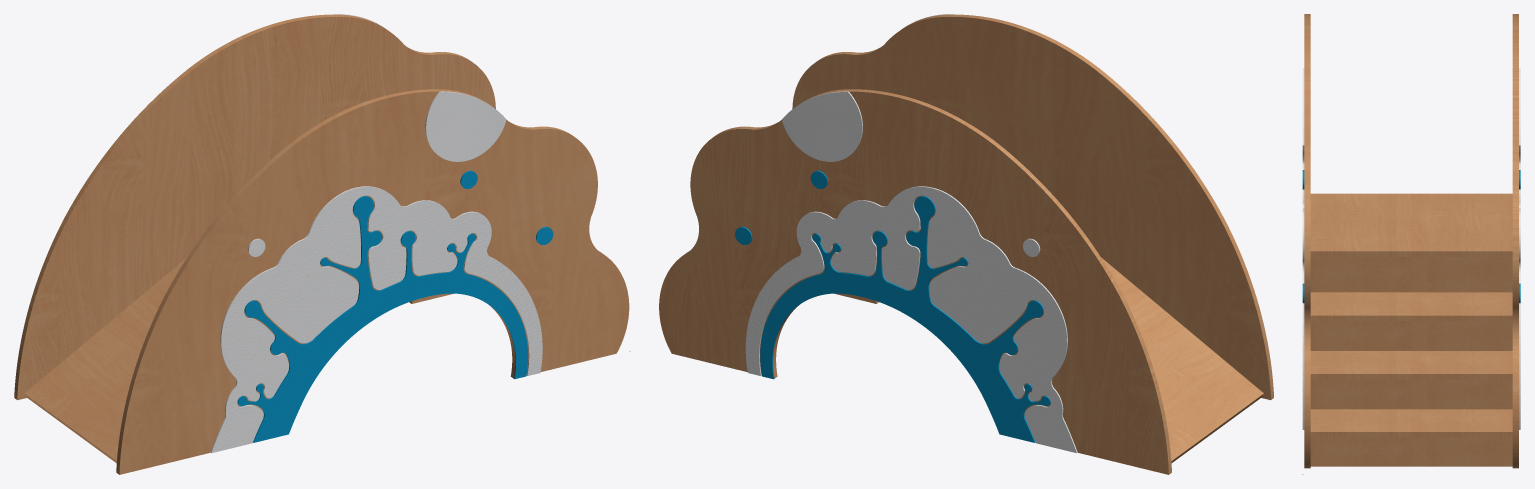
Rendered from gorka_zabava.glb.
3 renders of one model, left to right at view 1: azimuth 30°, elevation 25°; view 2: azimuth 150°, elevation 25°; view 3: azimuth 270°, elevation 25°, orthographic. The views are drawn at different scales.
Parts seen in each view (by area): view 1: Shape_IndexedFaceSet.027, Shape_IndexedFaceSet.020, Shape_IndexedFaceSet.022_FAN, Shape_IndexedFaceSet.023_FAN, Shape_IndexedFaceSet.013, Shape_IndexedFaceSet.026_FAN; view 2: Shape_IndexedFaceSet.020, Shape_IndexedFaceSet.027, Shape_IndexedFaceSet.019_FAN, Shape_IndexedFaceSet.014_FAN, Shape_IndexedFaceSet.013, Shape_IndexedFaceSet.016_FAN; view 3: Shape_IndexedFaceSet.012, Shape_IndexedFaceSet.011, Shape_IndexedFaceSet.007, Shape_IndexedFaceSet.009, Shape_IndexedFaceSet.005, Shape_IndexedFaceSet.010, Shape_IndexedFaceSet.006, Shape_IndexedFaceSet.008, Shape_IndexedFaceSet.027, Shape_IndexedFaceSet.020, Shape_IndexedFaceSet.022_FAN, Shape_IndexedFaceSet.019_FAN (+1 smaller).
Boxes of the visible parts, box(x1,y1,x2,y2) form: Shape_IndexedFaceSet.027: box(116, 89, 629, 474); Shape_IndexedFaceSet.020: box(14, 14, 495, 400); Shape_IndexedFaceSet.022_FAN: box(210, 186, 542, 453); Shape_IndexedFaceSet.023_FAN: box(237, 196, 527, 442); Shape_IndexedFaceSet.013: box(24, 258, 186, 462); Shape_IndexedFaceSet.026_FAN: box(425, 91, 506, 161); Shape_IndexedFaceSet.020: box(659, 89, 1171, 474); Shape_IndexedFaceSet.027: box(792, 14, 1273, 400); Shape_IndexedFaceSet.019_FAN: box(745, 186, 1077, 453); Shape_IndexedFaceSet.014_FAN: box(760, 196, 1050, 442); Shape_IndexedFaceSet.013: box(1101, 257, 1263, 462); Shape_IndexedFaceSet.016_FAN: box(782, 91, 862, 161); Shape_IndexedFaceSet.012: box(1310, 193, 1512, 256); Shape_IndexedFaceSet.011: box(1310, 257, 1512, 292); Shape_IndexedFaceSet.007: box(1310, 379, 1512, 409); Shape_IndexedFaceSet.009: box(1310, 321, 1512, 350); Shape_IndexedFaceSet.005: box(1310, 437, 1512, 466); Shape_IndexedFaceSet.010: box(1310, 292, 1512, 321); Shape_IndexedFaceSet.006: box(1310, 409, 1512, 437); Shape_IndexedFaceSet.008: box(1310, 351, 1512, 379); Shape_IndexedFaceSet.027: box(1304, 14, 1310, 468); Shape_IndexedFaceSet.020: box(1512, 14, 1518, 468); Shape_IndexedFaceSet.022_FAN: box(1302, 162, 1304, 429); Shape_IndexedFaceSet.019_FAN: box(1519, 162, 1520, 429).
Bounding box in the file's own units: 1541 × 900 × 559.
Materials: 29 (28 with a texture image).
